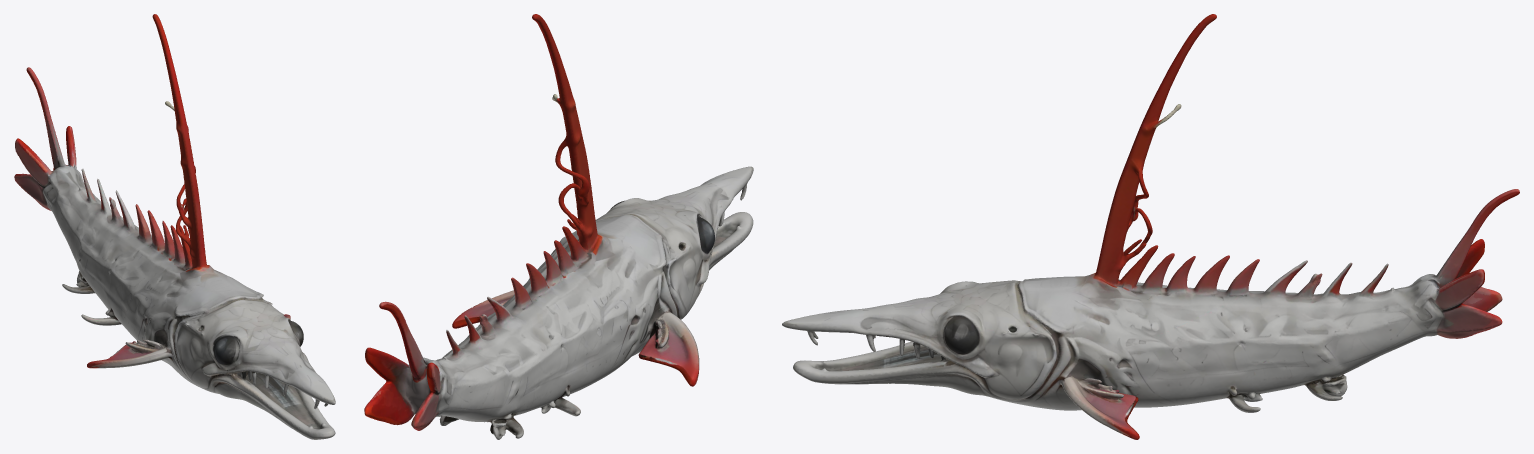
Rendered from oarY_2.glb.
3 views of the same model, side by side, from view 1: azimuth 30°, elevation 25°; view 2: azimuth 150°, elevation 25°; view 3: azimuth 270°, elevation 25° (orthographic). The views are drawn at different scales.
Parts seen in each view (by area): view 1: tripo_node_a7fb0372-a4f6-4d46-9636-9e4b1a88c106; view 2: tripo_node_a7fb0372-a4f6-4d46-9636-9e4b1a88c106; view 3: tripo_node_a7fb0372-a4f6-4d46-9636-9e4b1a88c106.
Part boxes in pixels (x1,y1,x2,y2): tripo_node_a7fb0372-a4f6-4d46-9636-9e4b1a88c106: [14, 14, 335, 439]; tripo_node_a7fb0372-a4f6-4d46-9636-9e4b1a88c106: [364, 14, 753, 439]; tripo_node_a7fb0372-a4f6-4d46-9636-9e4b1a88c106: [782, 14, 1519, 439].
Bounding box in the file's own units: 0.3761 × 0.5973 × 1.
1 material, 1 textured.
